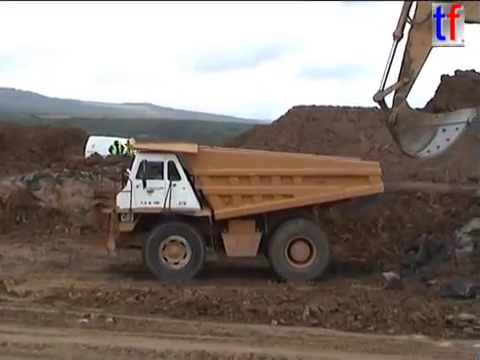excavator: (369, 1, 480, 162)
truck: (93, 137, 387, 285)
worker: (106, 139, 128, 176), (123, 138, 138, 177)
